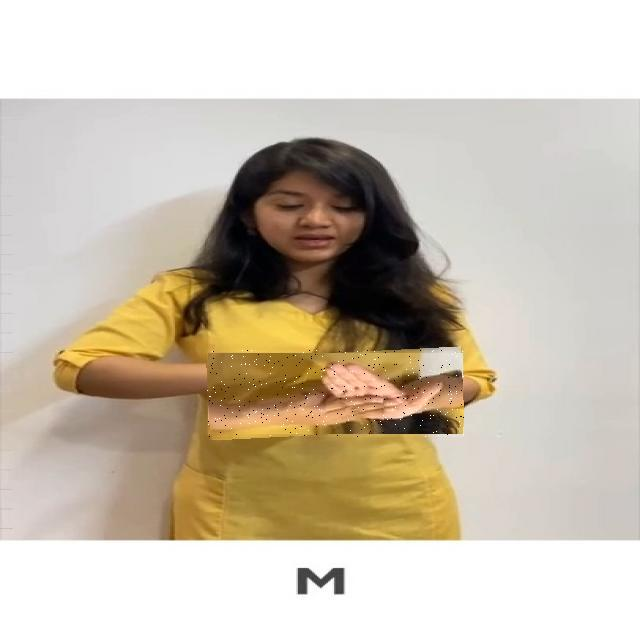M: (207, 350, 464, 437)
